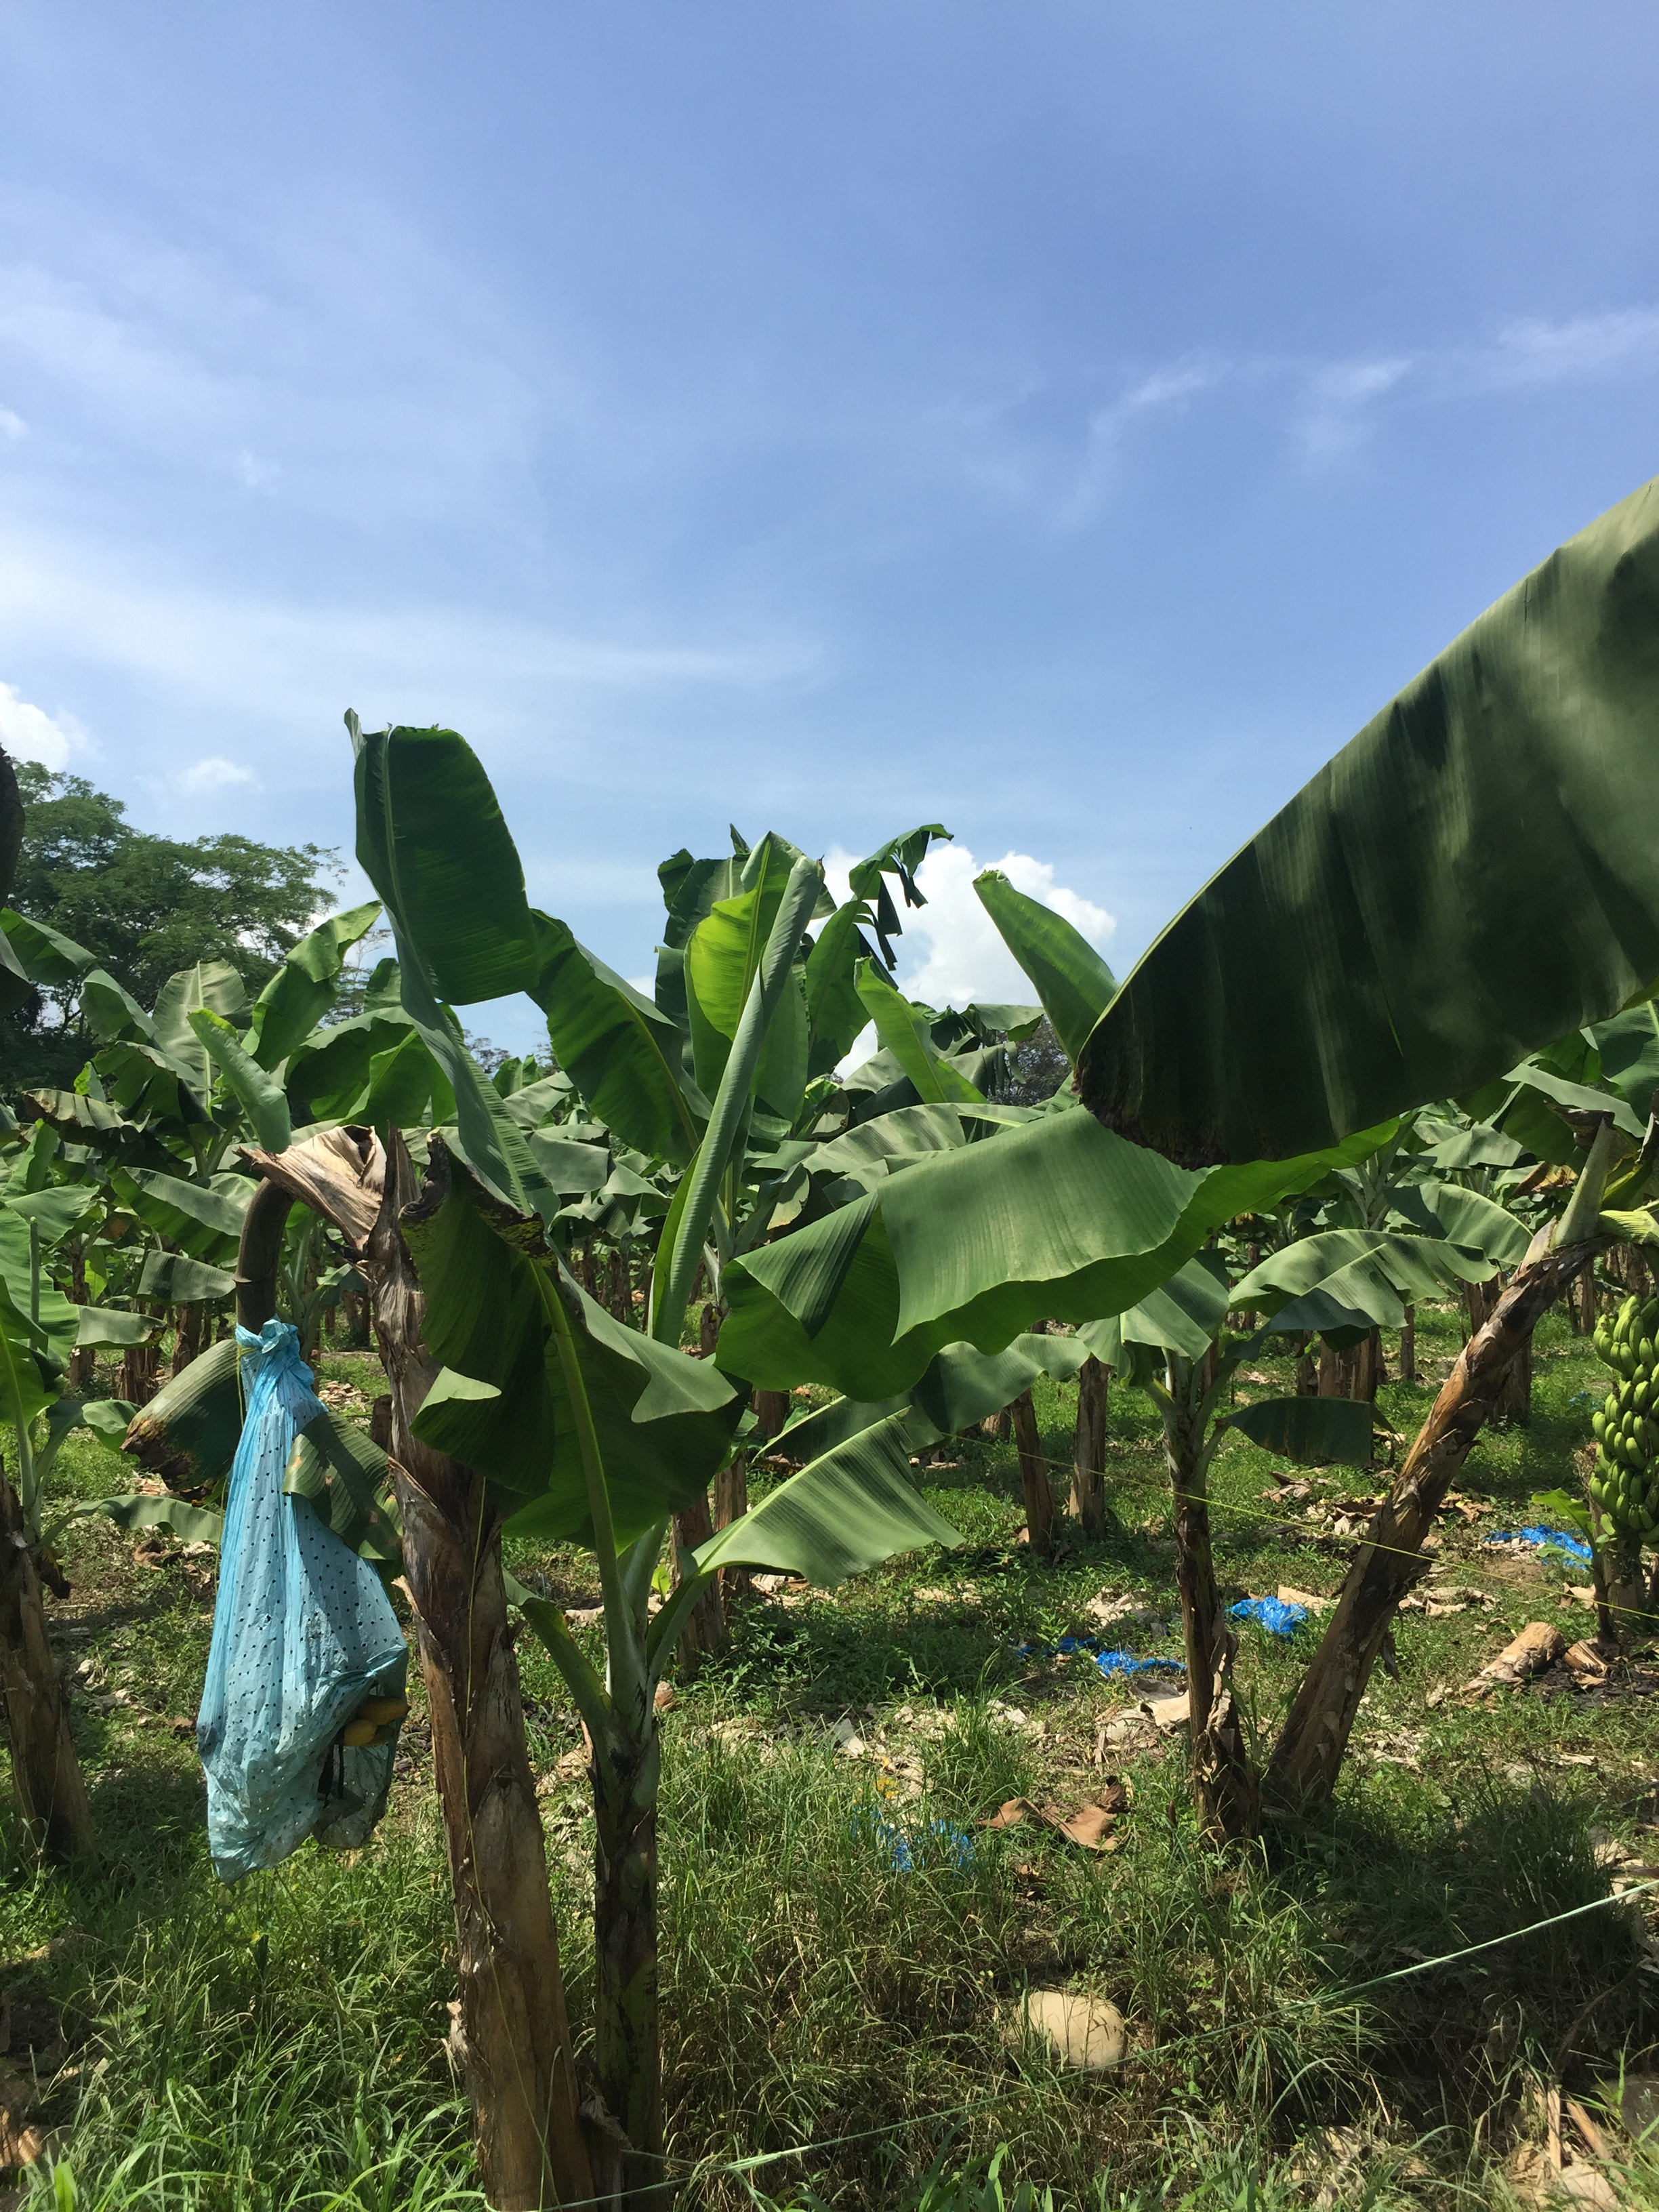candleleafs: (647, 855, 823, 1338)
